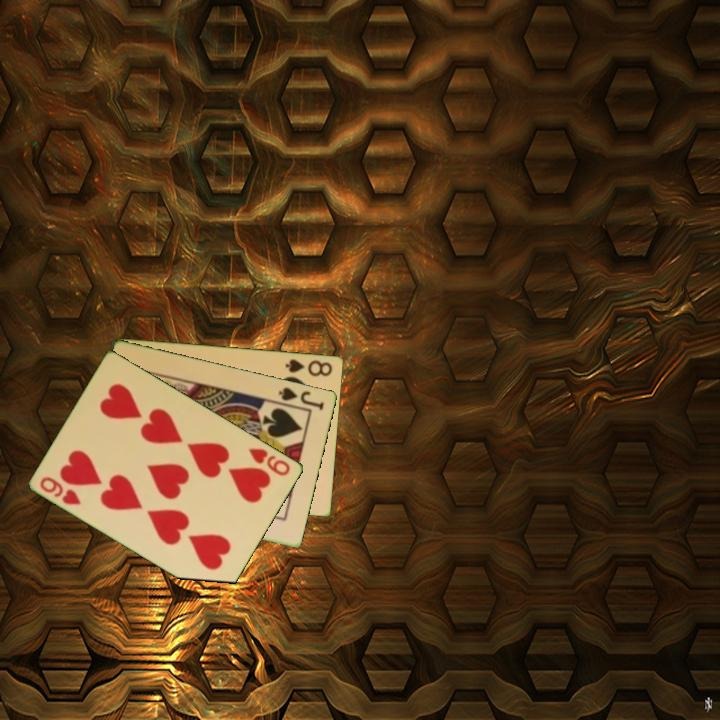8s: (282, 355, 336, 379)
9h: (245, 444, 294, 479), (36, 473, 84, 508)
Js: (275, 383, 327, 413)
